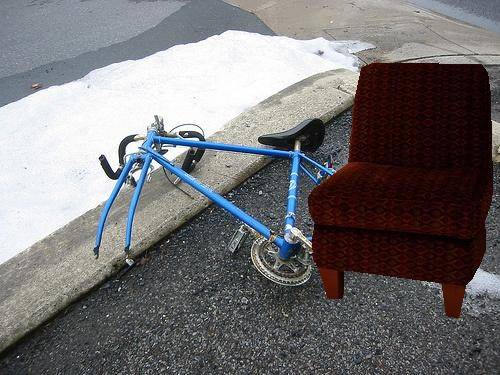tampered: (309, 63, 493, 318)
